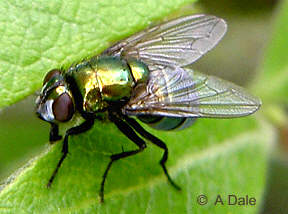green bottles fly: (26, 8, 269, 189)
